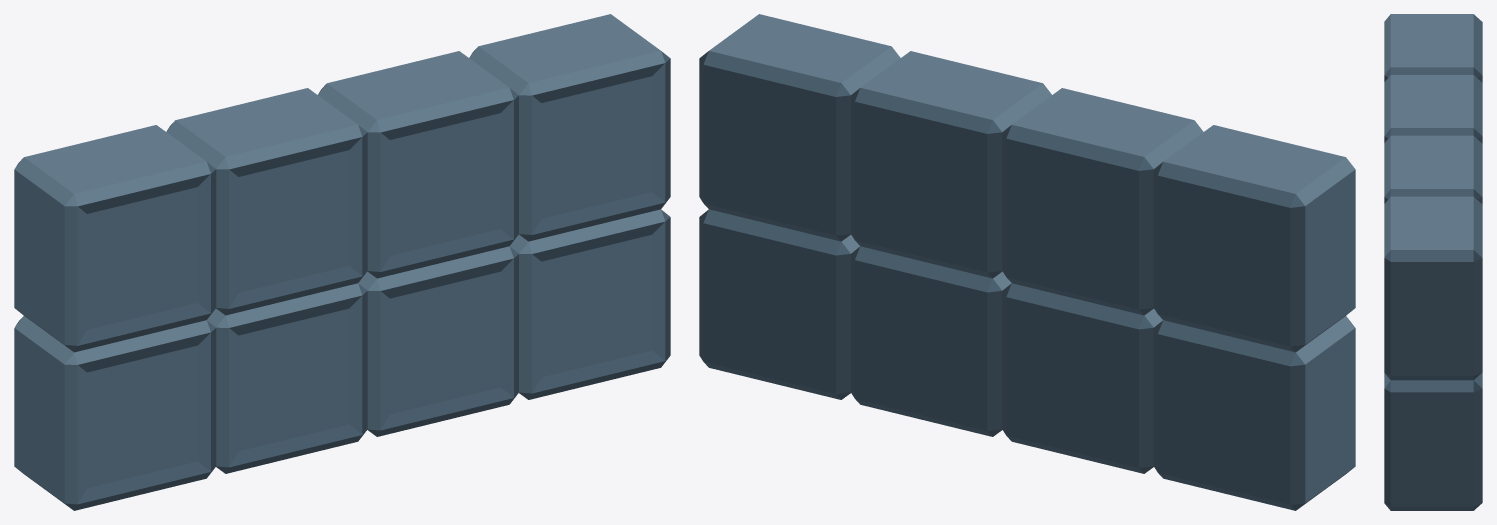
File: Terrain_Block4x2.gltf
3 renders of one model, left to right at view 1: azimuth 30°, elevation 25°; view 2: azimuth 150°, elevation 25°; view 3: azimuth 270°, elevation 25°, orthographic. The views are drawn at different scales.
Parts seen in each view (by area): view 1: Terrain_Block4x2_baked; view 2: Terrain_Block4x2_baked; view 3: Terrain_Block4x2_baked.
Part boxes in pixels (x1,y1,x2,y2): Terrain_Block4x2_baked: (14, 14, 670, 510); Terrain_Block4x2_baked: (699, 14, 1355, 510); Terrain_Block4x2_baked: (1384, 14, 1482, 510).
Size of the model in its own units: 4 by 2 by 0.6822.
